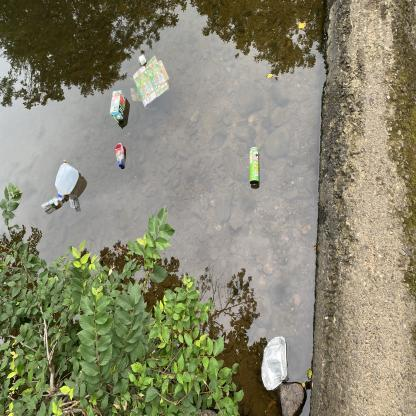trash: (126, 48, 172, 108), (256, 333, 293, 393), (53, 162, 82, 202), (246, 140, 262, 189), (106, 88, 128, 123), (110, 140, 131, 170), (41, 196, 64, 214)
